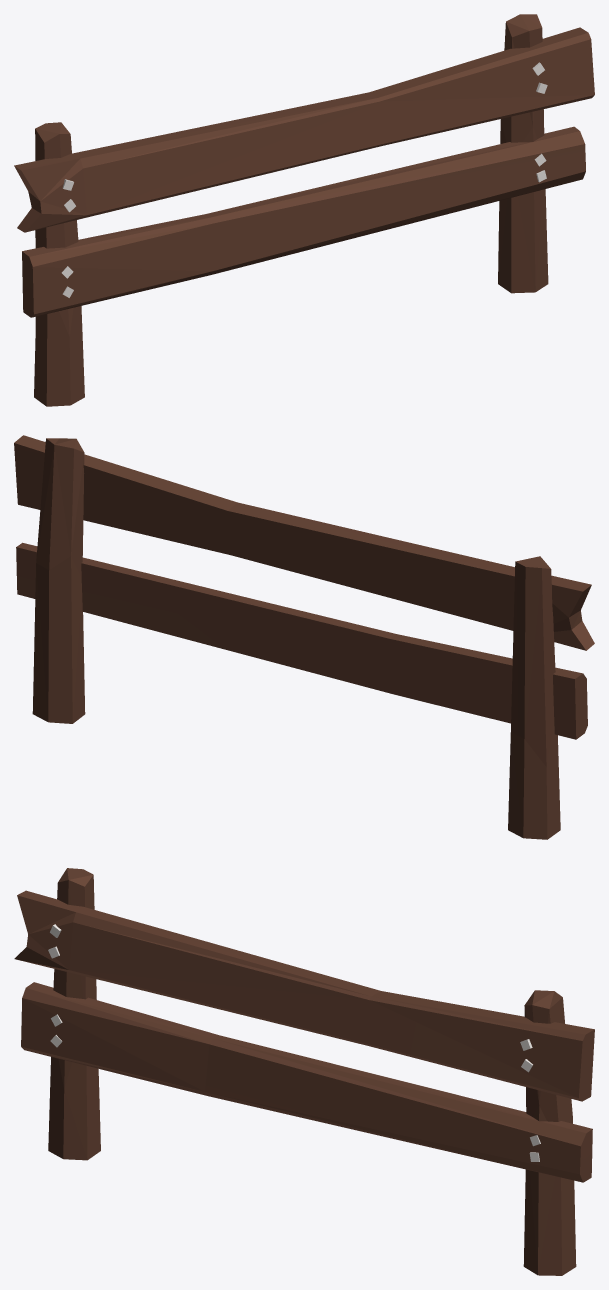
The model's file is Fence_1.fbx.
3 renders of one model, top to bottom at view 1: azimuth 30°, elevation 25°; view 2: azimuth 150°, elevation 25°; view 3: azimuth 330°, elevation 25°, orthographic. The views are drawn at different scales.
Parts seen in each view (by area): view 1: Fence_1; view 2: Fence_1; view 3: Fence_1.
Boxes of the visible parts, left/top/right/bottom form: Fence_1: left=14, top=14, right=594, bottom=406; Fence_1: left=14, top=435, right=594, bottom=839; Fence_1: left=14, top=868, right=594, bottom=1275.
Bounding box in the file's own units: 2.07 × 0.9393 × 0.2079.
